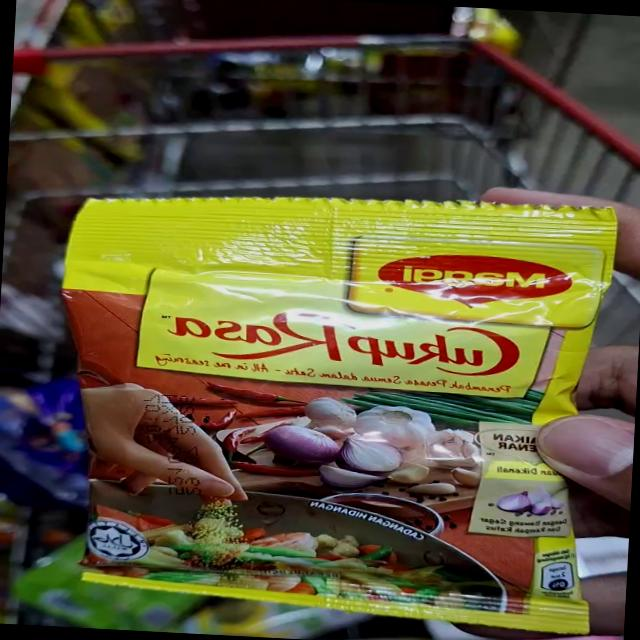Maggi Cukup Rasa: (58, 188, 618, 616)
